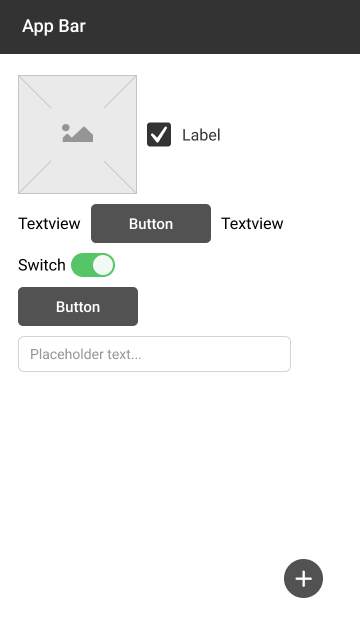button: (16, 284, 141, 329), (91, 202, 213, 244)
checkBox: (144, 121, 225, 148)
editText: (17, 334, 293, 375)
floatingButton: (283, 558, 324, 598)
imageView: (16, 71, 140, 197)
switch: (18, 251, 120, 279)
textView: (220, 214, 285, 234), (17, 215, 84, 233)
toolbar: (1, 1, 360, 55)
